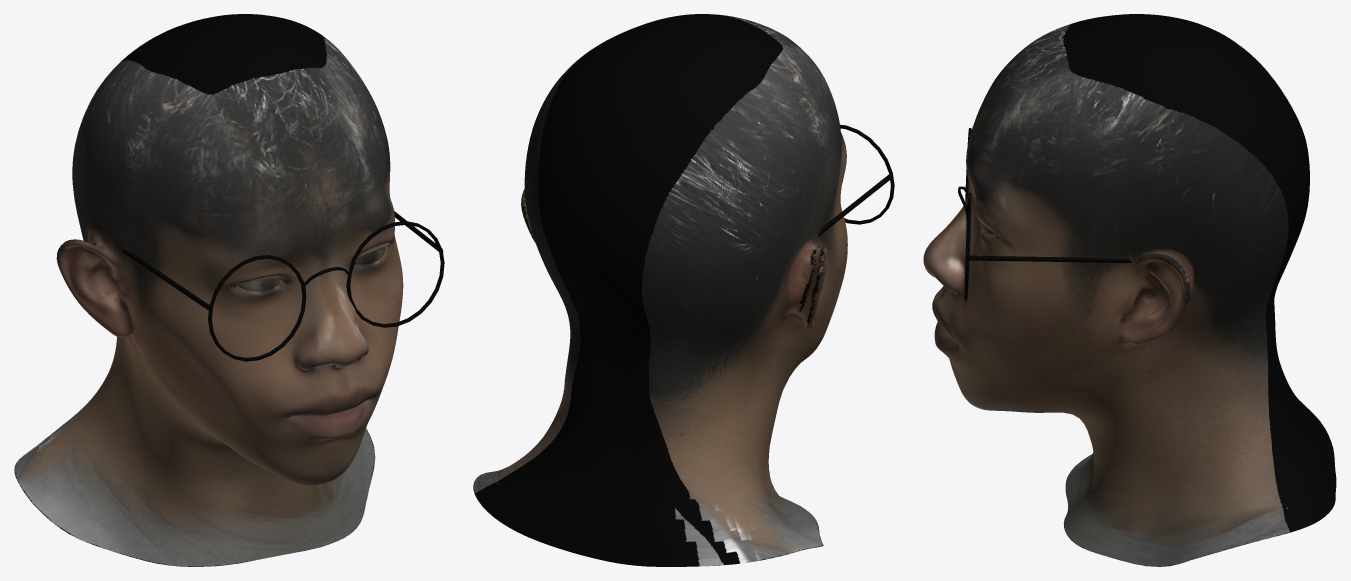
The model's file is HeadV2.gltf.
The picture shows the model from 3 angles, left to right: view 1: azimuth 30°, elevation 25°; view 2: azimuth 150°, elevation 25°; view 3: azimuth 270°, elevation 25°; orthographic projection. The views are drawn at different scales.
Visible parts, largest first — view 1: FBHead, glasses frame; view 2: FBHead, glasses frame; view 3: FBHead, glasses frame.
Part boxes in pixels (x1=…): FBHead: x1=14, y1=14, x2=403, y2=566; glasses frame: x1=121, y1=211, x2=444, y2=361; FBHead: x1=473, y1=14, x2=847, y2=566; glasses frame: x1=818, y1=124, x2=894, y2=236; FBHead: x1=923, y1=14, x2=1336, y2=566; glasses frame: x1=958, y1=128, x2=1131, y2=300.
Size of the model in its own units: 1.56 by 2.22 by 1.74.
Materials: 2 (1 with a texture image).
